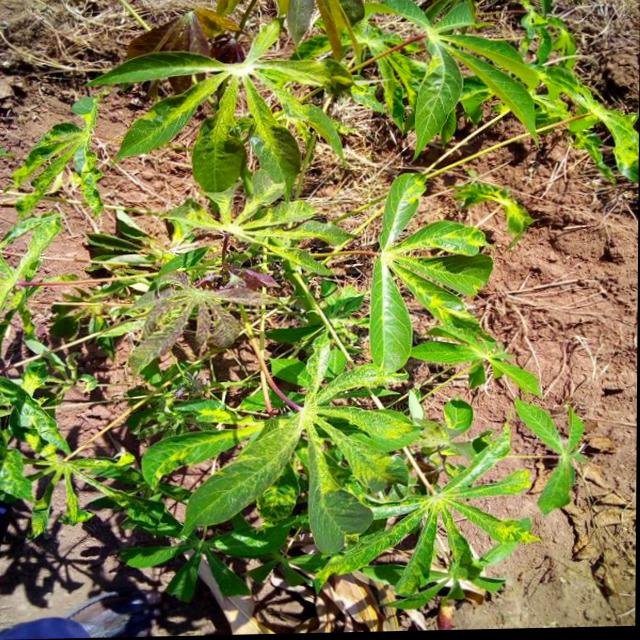Mosaico: (151, 354, 387, 519), (117, 28, 341, 189), (147, 149, 338, 290), (403, 396, 545, 551), (13, 80, 118, 215), (447, 174, 571, 271)
